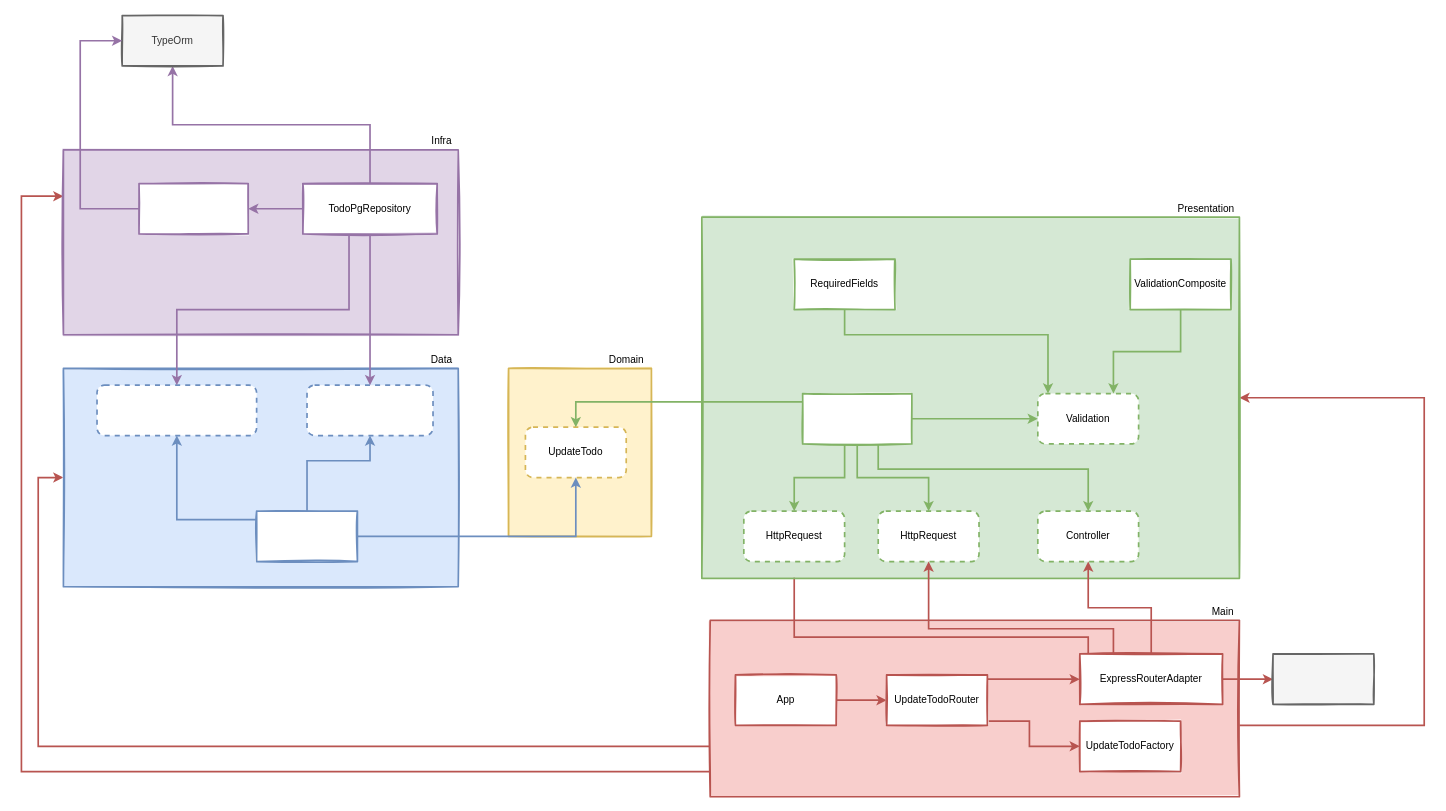
Image size: 1446x811. Some labels were removed from this diagram. Here are the shapes that lost their labels. From the top down, the centre of each, then its label:
At point (193, 208): "TodoEntity".
At point (176, 410): "LoadTodoByIdRepository".
At point (369, 410): "UpdateTodoRepository".
At point (856, 418): "UpdateTodoController".
At point (306, 536): "UpdateTodoService".
At point (1323, 679): "Express".
